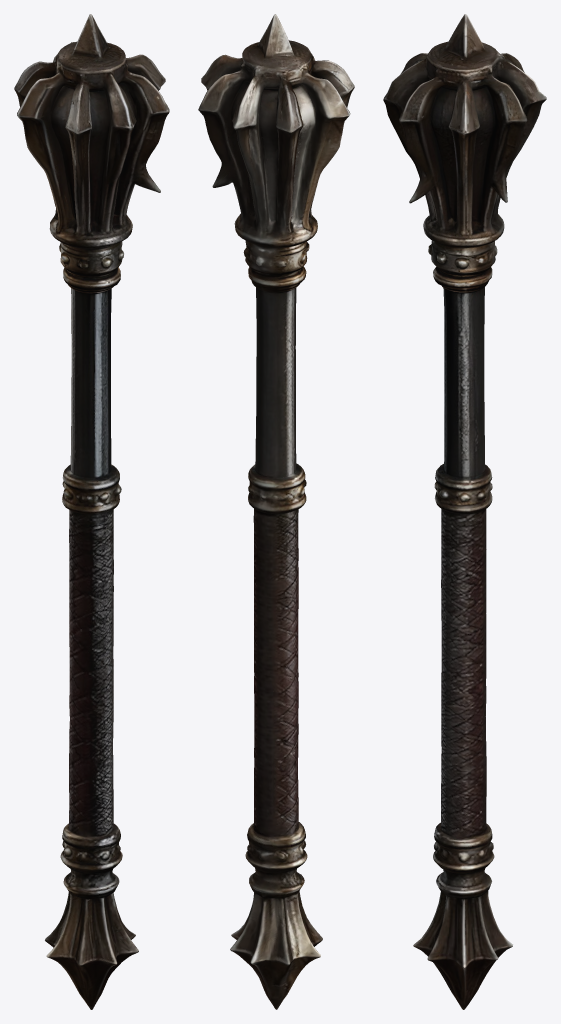
The model's file is great_ribbed_mace.glb.
3 views of the same model, side by side, from view 1: azimuth 30°, elevation 25°; view 2: azimuth 150°, elevation 25°; view 3: azimuth 270°, elevation 25° (orthographic).
Visible parts, largest first — view 1: great_ribbed_mace; view 2: great_ribbed_mace; view 3: great_ribbed_mace.
Boxes of the visible parts, x1=… form: great_ribbed_mace: x1=14, y1=14, x2=169, y2=1009; great_ribbed_mace: x1=198, y1=14, x2=354, y2=1009; great_ribbed_mace: x1=383, y1=14, x2=546, y2=1009.
Size of the model in its own units: 0.2105 by 1.35 by 0.2006.
1 material, 1 textured.
